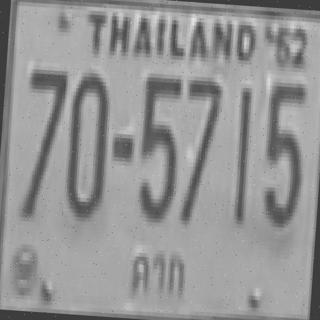N00: (62, 68, 110, 218)
N01: (232, 88, 252, 220), (232, 84, 251, 220)
N05: (134, 69, 182, 220), (258, 78, 306, 224)
N07: (18, 65, 66, 215), (178, 72, 222, 222)
P69: (128, 239, 192, 300)
